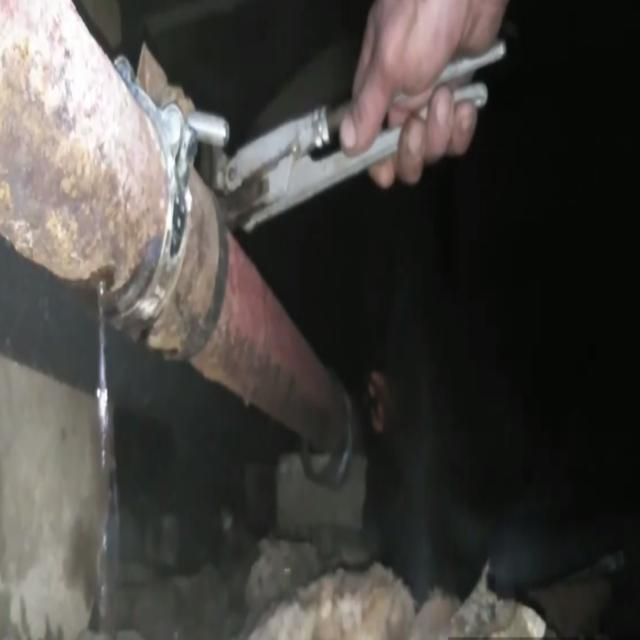leak: (96, 281, 119, 636)
